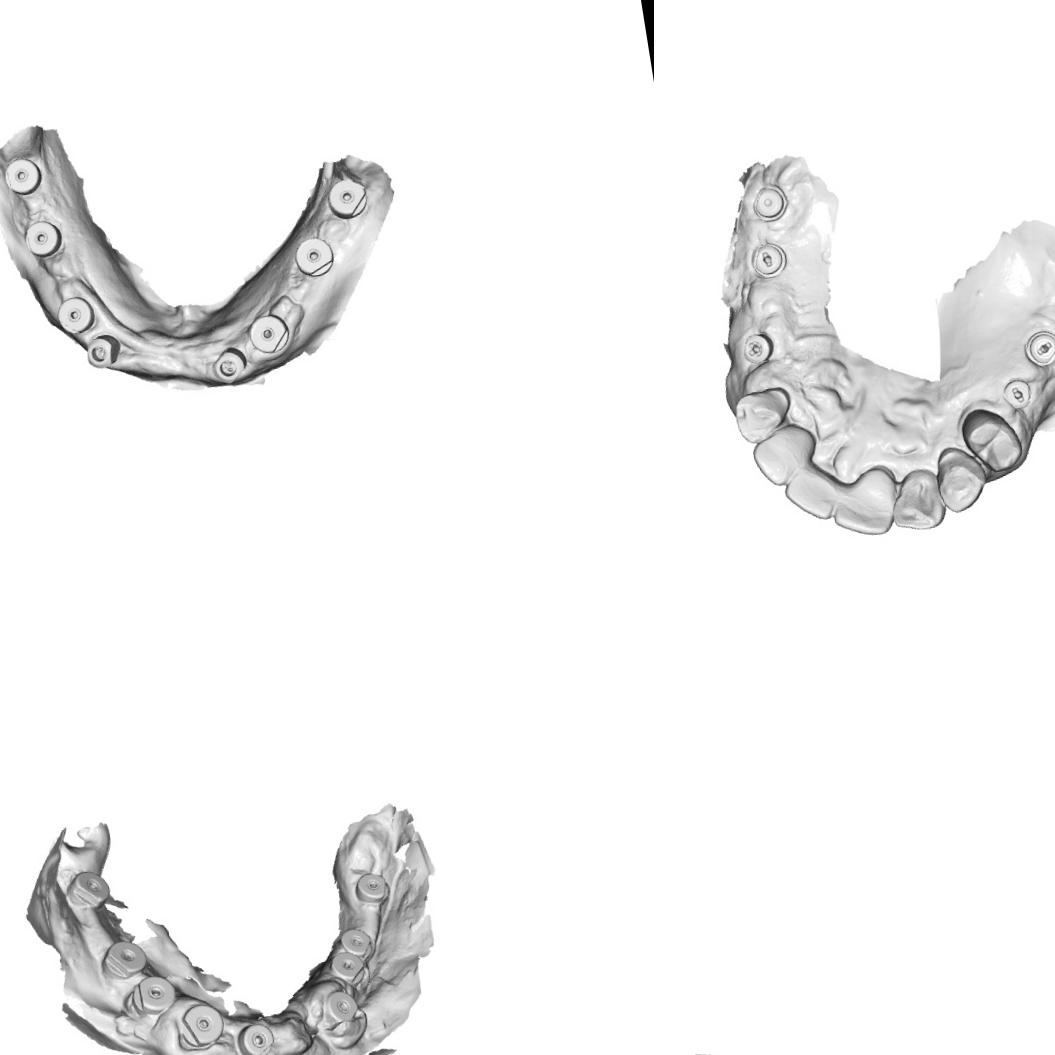canine: (932, 441, 992, 516), (730, 384, 797, 446)
implant: (312, 162, 384, 232), (44, 283, 115, 348), (278, 224, 346, 291), (68, 321, 139, 384), (196, 334, 262, 397), (237, 300, 299, 366), (0, 140, 55, 206), (173, 998, 231, 1052), (19, 207, 72, 260), (66, 865, 116, 914), (127, 972, 177, 1019), (102, 934, 150, 979), (749, 180, 791, 224), (350, 867, 394, 909), (321, 984, 361, 1030), (328, 946, 370, 988), (337, 924, 378, 964), (235, 1017, 277, 1055)
implant_minus: (749, 239, 790, 282), (1021, 327, 1055, 370), (1000, 376, 1034, 412)
implant_plus: (739, 330, 777, 367)
incisor: (827, 464, 903, 542), (748, 420, 821, 490), (886, 464, 950, 536), (780, 460, 844, 526)
premolar: (958, 401, 1024, 477)
